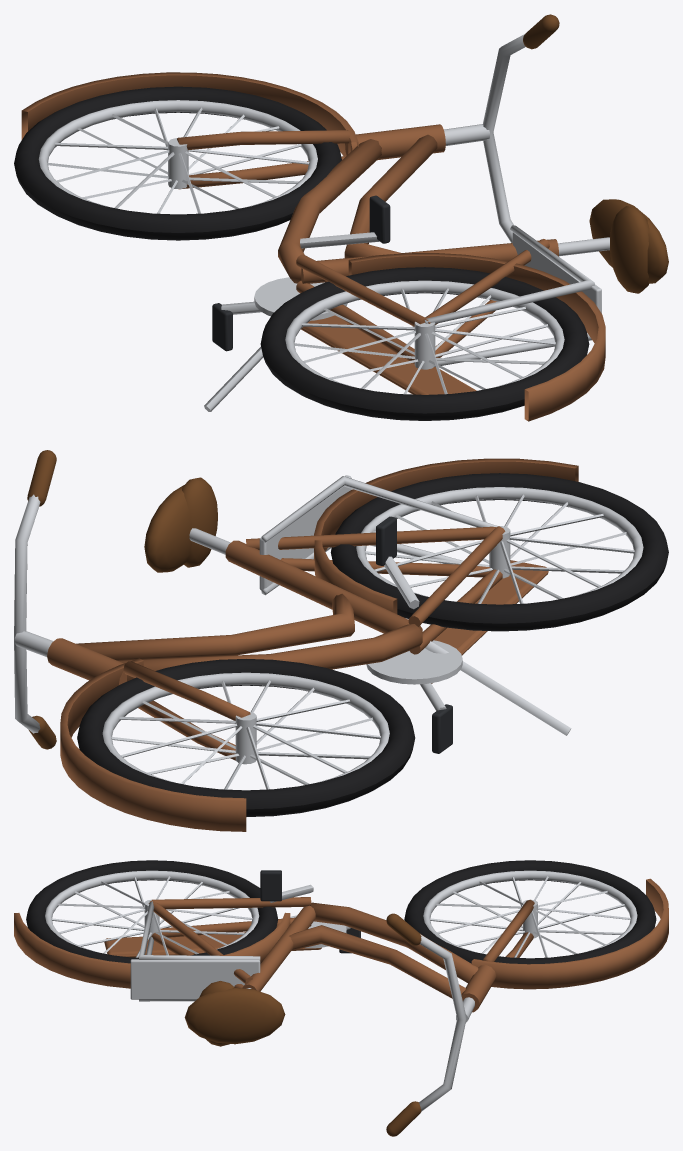
The model's file is bike_wreck.fbx.
3 views of the same model, one above another, from view 1: azimuth 30°, elevation 25°; view 2: azimuth 150°, elevation 25°; view 3: azimuth 270°, elevation 25° (orthographic). The views are drawn at different scales.
Visible parts, largest first — view 1: bike_wreck; view 2: bike_wreck; view 3: bike_wreck.
Boxes of the visible parts, x1=… form: bike_wreck: x1=14, y1=14, x2=668, y2=421; bike_wreck: x1=14, y1=450, x2=668, y2=831; bike_wreck: x1=14, y1=860, x2=668, y2=1136.
Size of the model in its own units: 1.07 by 0.6798 by 1.82.
